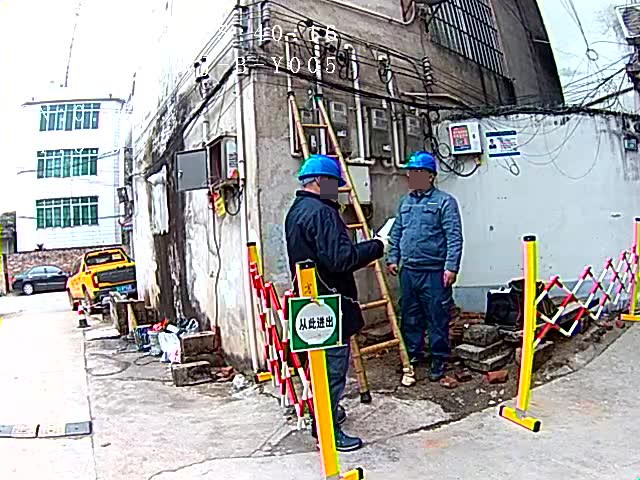downsuit: (397, 269, 453, 359), (311, 344, 349, 441)
halt: (297, 154, 345, 202), (406, 151, 439, 188)
hand: (442, 268, 457, 289), (386, 263, 399, 277)
inear: (314, 175, 331, 193), (420, 171, 437, 183)
intosign: (286, 292, 346, 355)
person: (281, 154, 385, 454), (391, 152, 464, 381)
upcloth: (285, 195, 384, 340)
upsuit: (386, 188, 462, 269)
